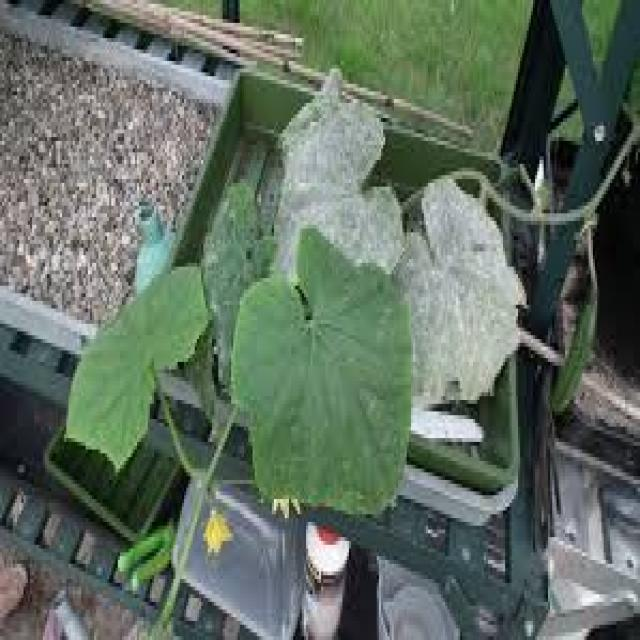powdery-mildew: (397, 197, 518, 347), (293, 105, 387, 269)
